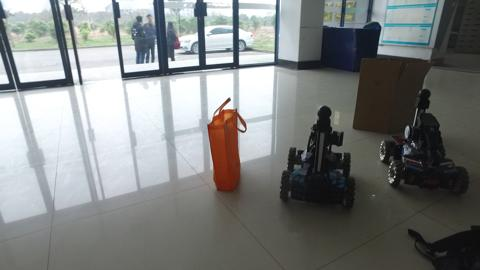bag: (208, 99, 245, 193)
chariot: (383, 94, 468, 197), (280, 108, 364, 211)
